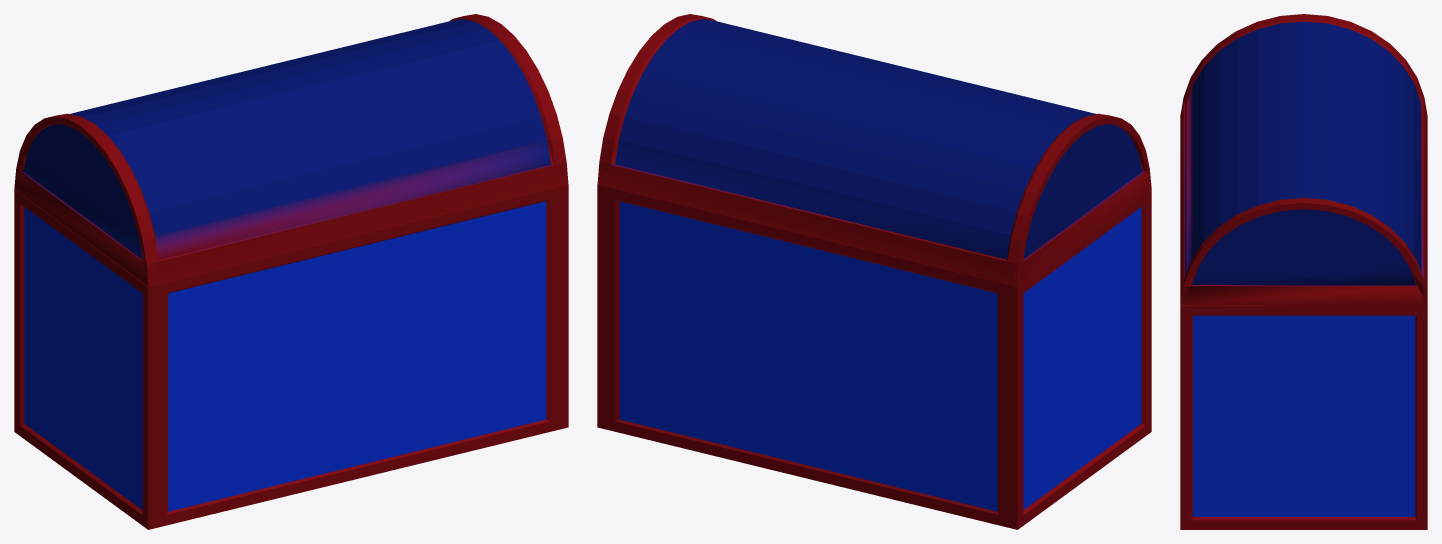
Rendered from coffre jouet.fbx.
3 views of the same model, side by side, from view 1: azimuth 30°, elevation 25°; view 2: azimuth 150°, elevation 25°; view 3: azimuth 270°, elevation 25° (orthographic). The views are drawn at different scales.
Visible parts, largest first — view 1: chest, top; view 2: chest, top; view 3: top, chest.
Boxes of the visible parts, bbox=[...] form: chest: bbox=[14, 184, 568, 529]; top: bbox=[14, 14, 568, 286]; chest: bbox=[597, 184, 1151, 529]; top: bbox=[597, 14, 1151, 286]; top: bbox=[1180, 14, 1427, 305]; chest: bbox=[1180, 305, 1427, 529].
Bounding box in the file's own units: 362 × 292 × 200.
